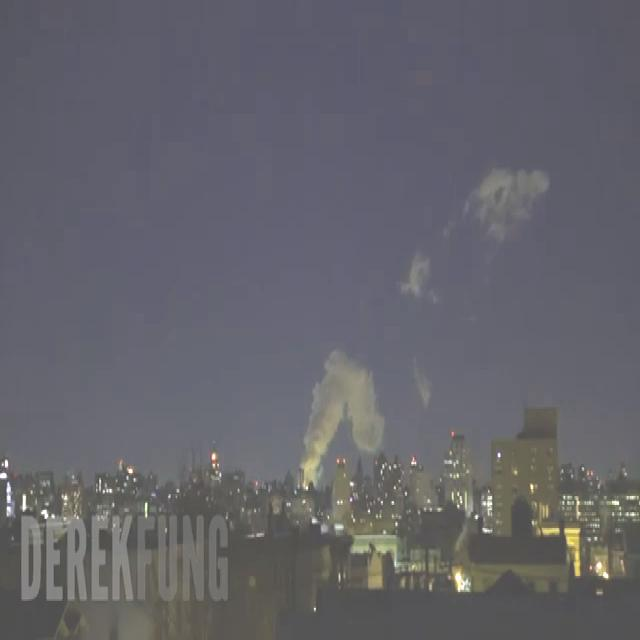smoke: (304, 350, 384, 478)
